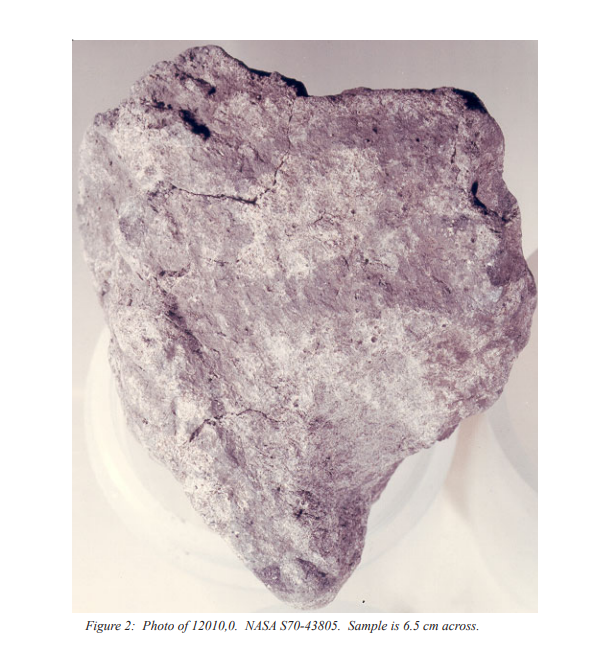Breccia: (74, 41, 538, 606), (105, 97, 379, 532), (286, 60, 525, 447)
